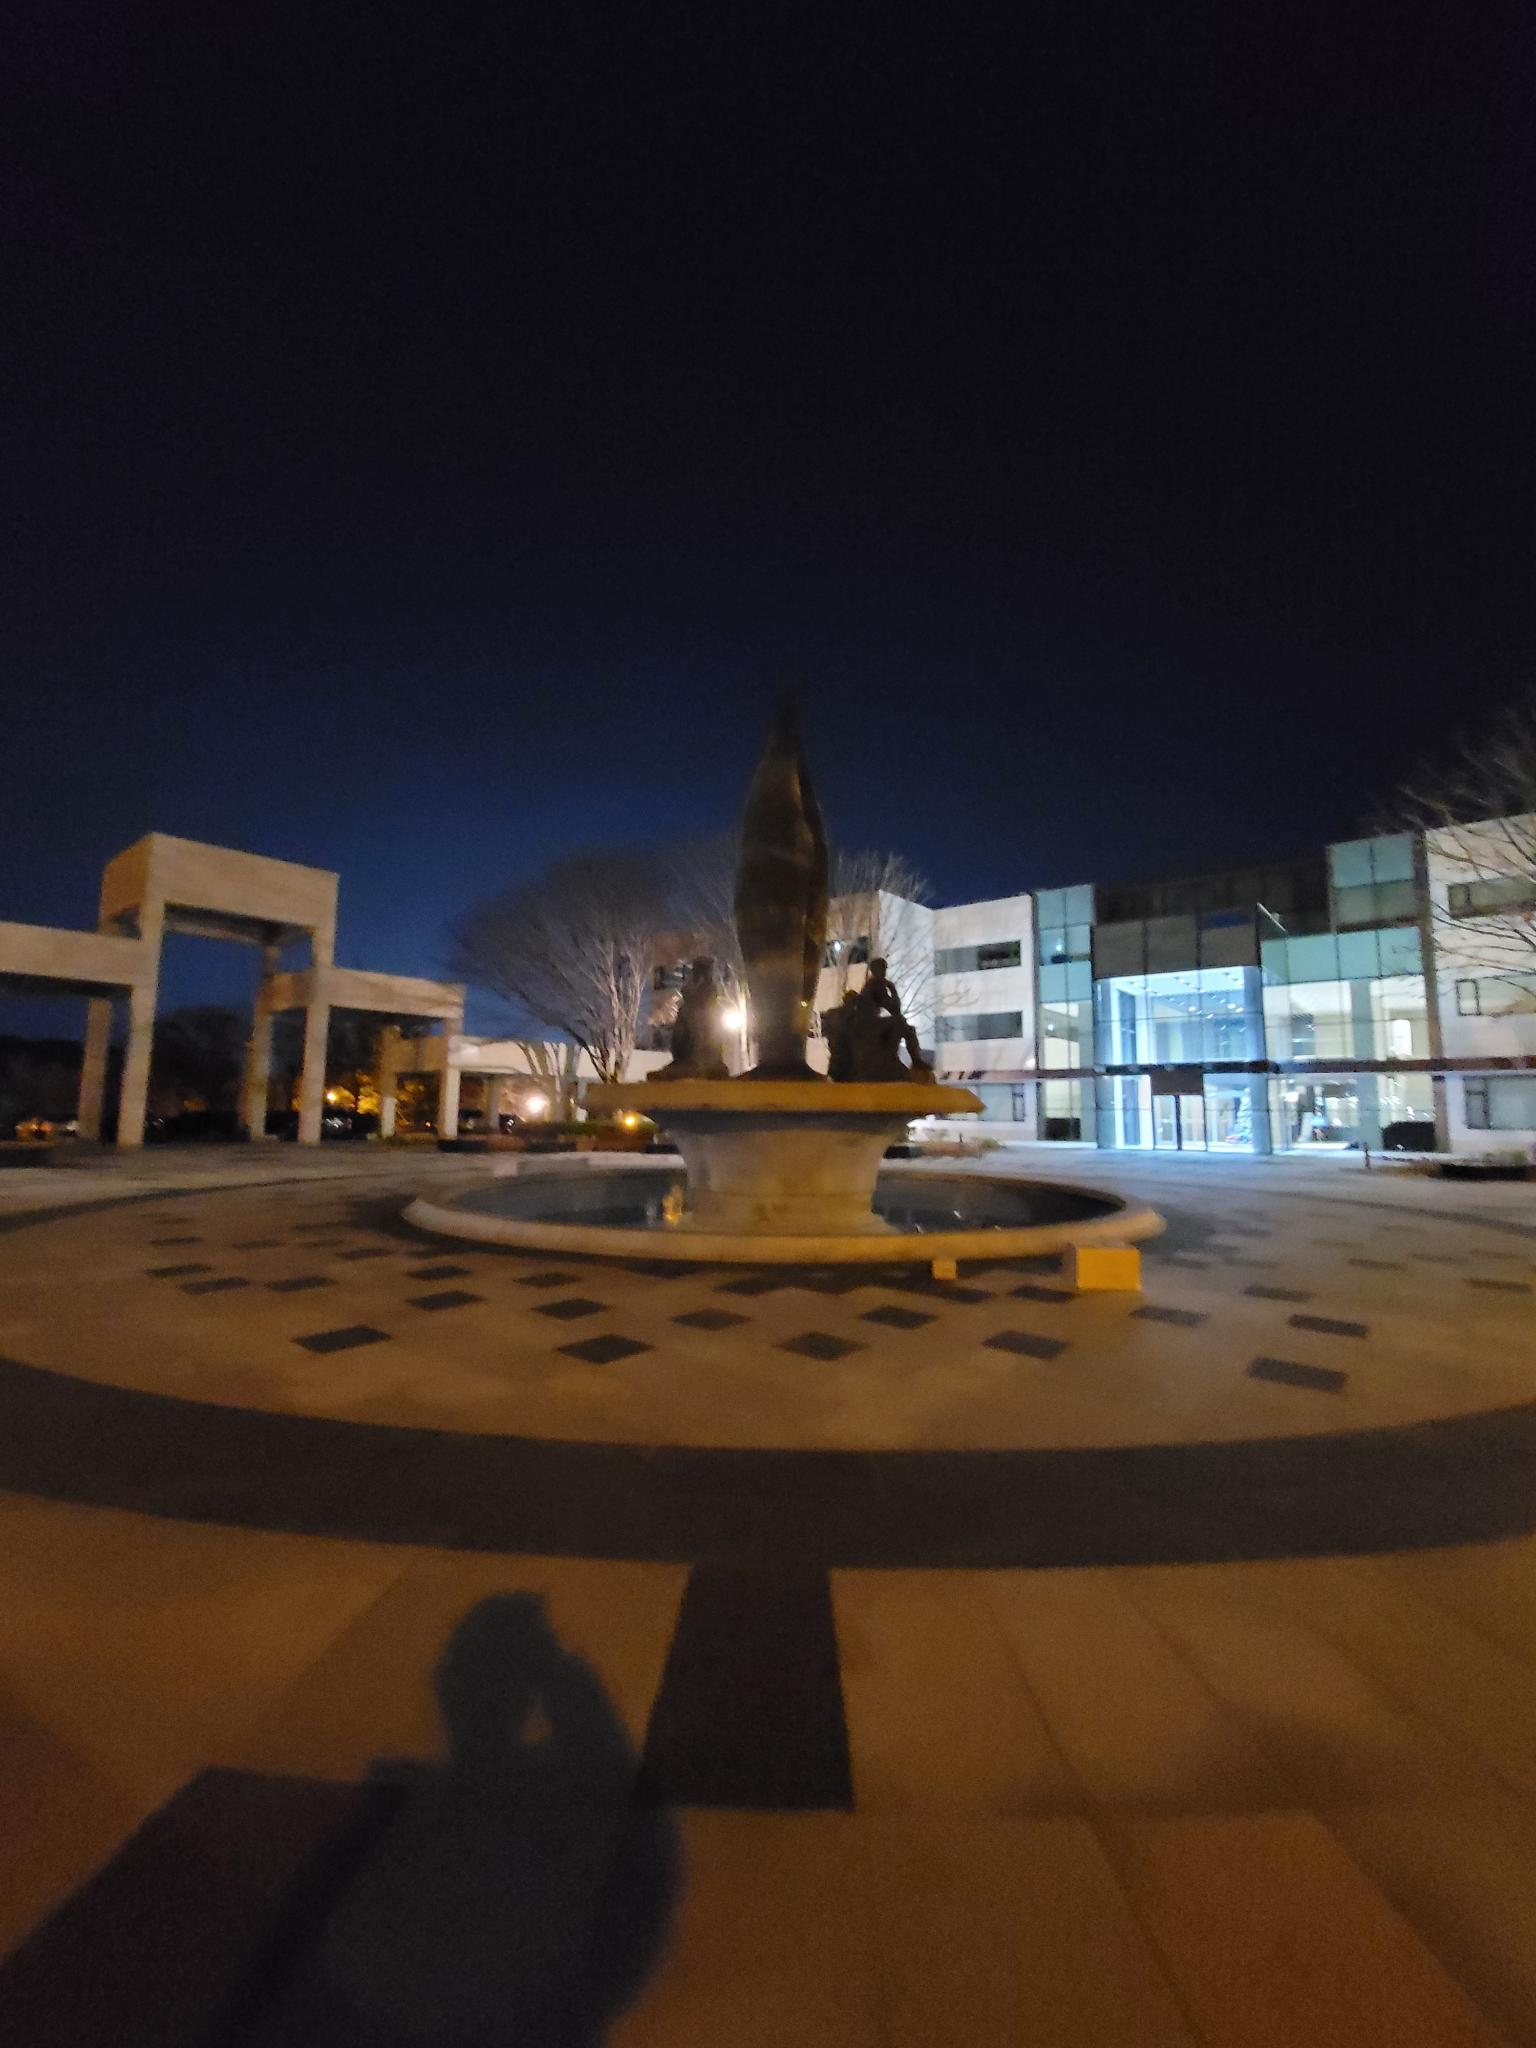Box: (1065, 1238, 1150, 1293), (928, 1251, 965, 1282)
